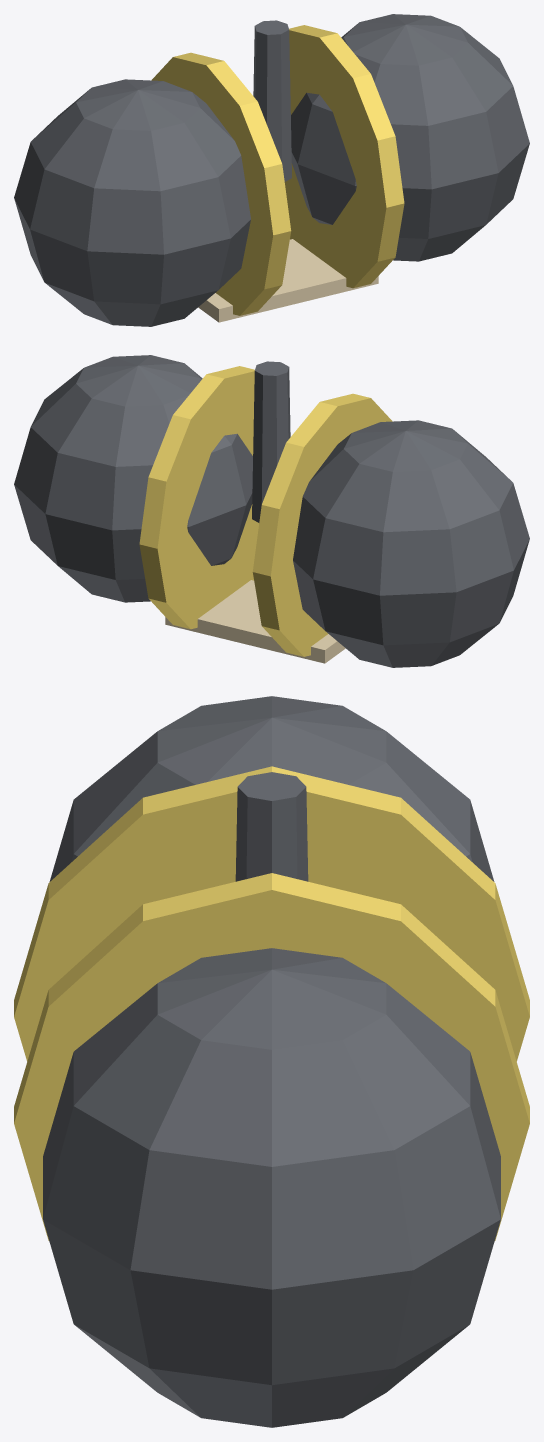
Rendered from travelling-circus-and-big-top-strongman-weight-c060c92f__36259.glb.
3 views of the same model, one above another, from view 1: azimuth 30°, elevation 25°; view 2: azimuth 150°, elevation 25°; view 3: azimuth 270°, elevation 25° (orthographic). The views are drawn at different scales.
Parts seen in each view (by area): view 1: strongman-weight-charcoal, strongman-weight-gold, strongman-weight-sawdust; view 2: strongman-weight-charcoal, strongman-weight-gold, strongman-weight-sawdust; view 3: strongman-weight-charcoal, strongman-weight-gold.
Part boxes in pixels (box(x1,y1,x2,y2)): strongman-weight-charcoal: box(14, 14, 529, 326); strongman-weight-gold: box(151, 25, 404, 315); strongman-weight-sawdust: box(198, 239, 378, 322); strongman-weight-charcoal: box(14, 355, 529, 667); strongman-weight-gold: box(139, 366, 392, 656); strongman-weight-sawdust: box(165, 580, 345, 663); strongman-weight-charcoal: box(43, 696, 500, 1427); strongman-weight-gold: box(14, 766, 529, 1240).
Size of the model in its own units: 1.88 by 0.98 by 0.9.
